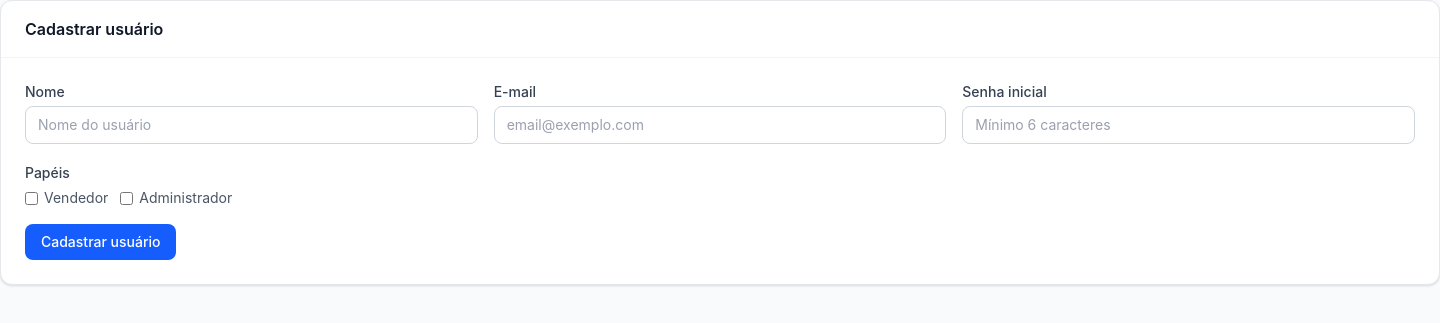
Test: UsuarioForm › should show validation errors for nome, email and senha
This screenshot has width=1440, height=323.
Step 1. Click the button "Cadastrar usuário" → x=101, y=242, box [25, 224, 176, 260]
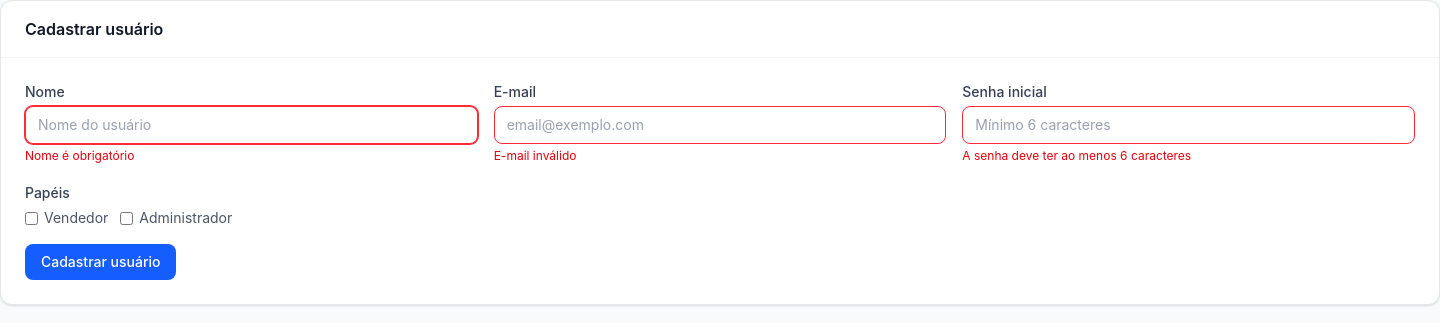
Result: the text "Nome é obrigatório" is shown at [25, 148, 134, 163]
Result: the text "E-mail inválido" is shown at [494, 148, 576, 163]
Result: the text "A senha deve ter ao menos 6 caracteres" is shown at [962, 148, 1191, 163]
